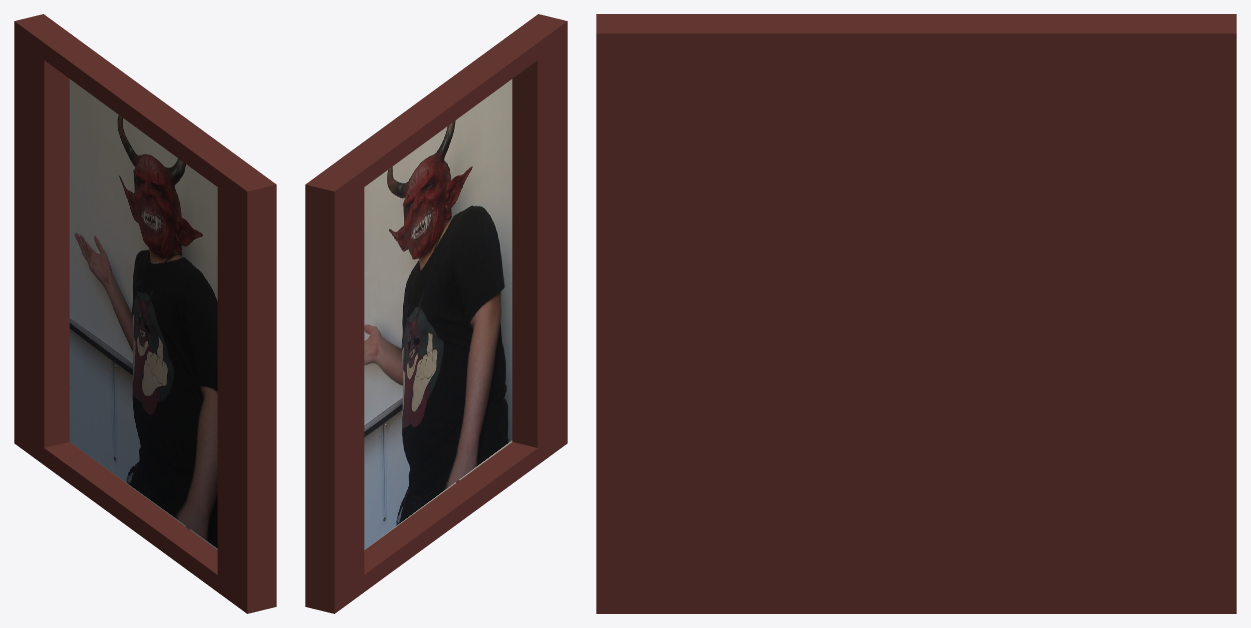
Rendered from Portrait3.fbx.
The picture shows the model from 3 angles, left to right: view 1: azimuth 30°, elevation 25°; view 2: azimuth 150°, elevation 25°; view 3: azimuth 270°, elevation 25°; orthographic projection. The views are drawn at different scales.
Visible parts, largest first — view 1: Cube.092; view 2: Cube.092; view 3: Cube.092.
Part boxes in pixels (<box>): Cube.092: <box>14,14,276,613</box>; Cube.092: <box>305,14,567,613</box>; Cube.092: <box>596,14,1236,613</box>.
Bounding box in the file's own units: 21.88 × 302 × 302.
